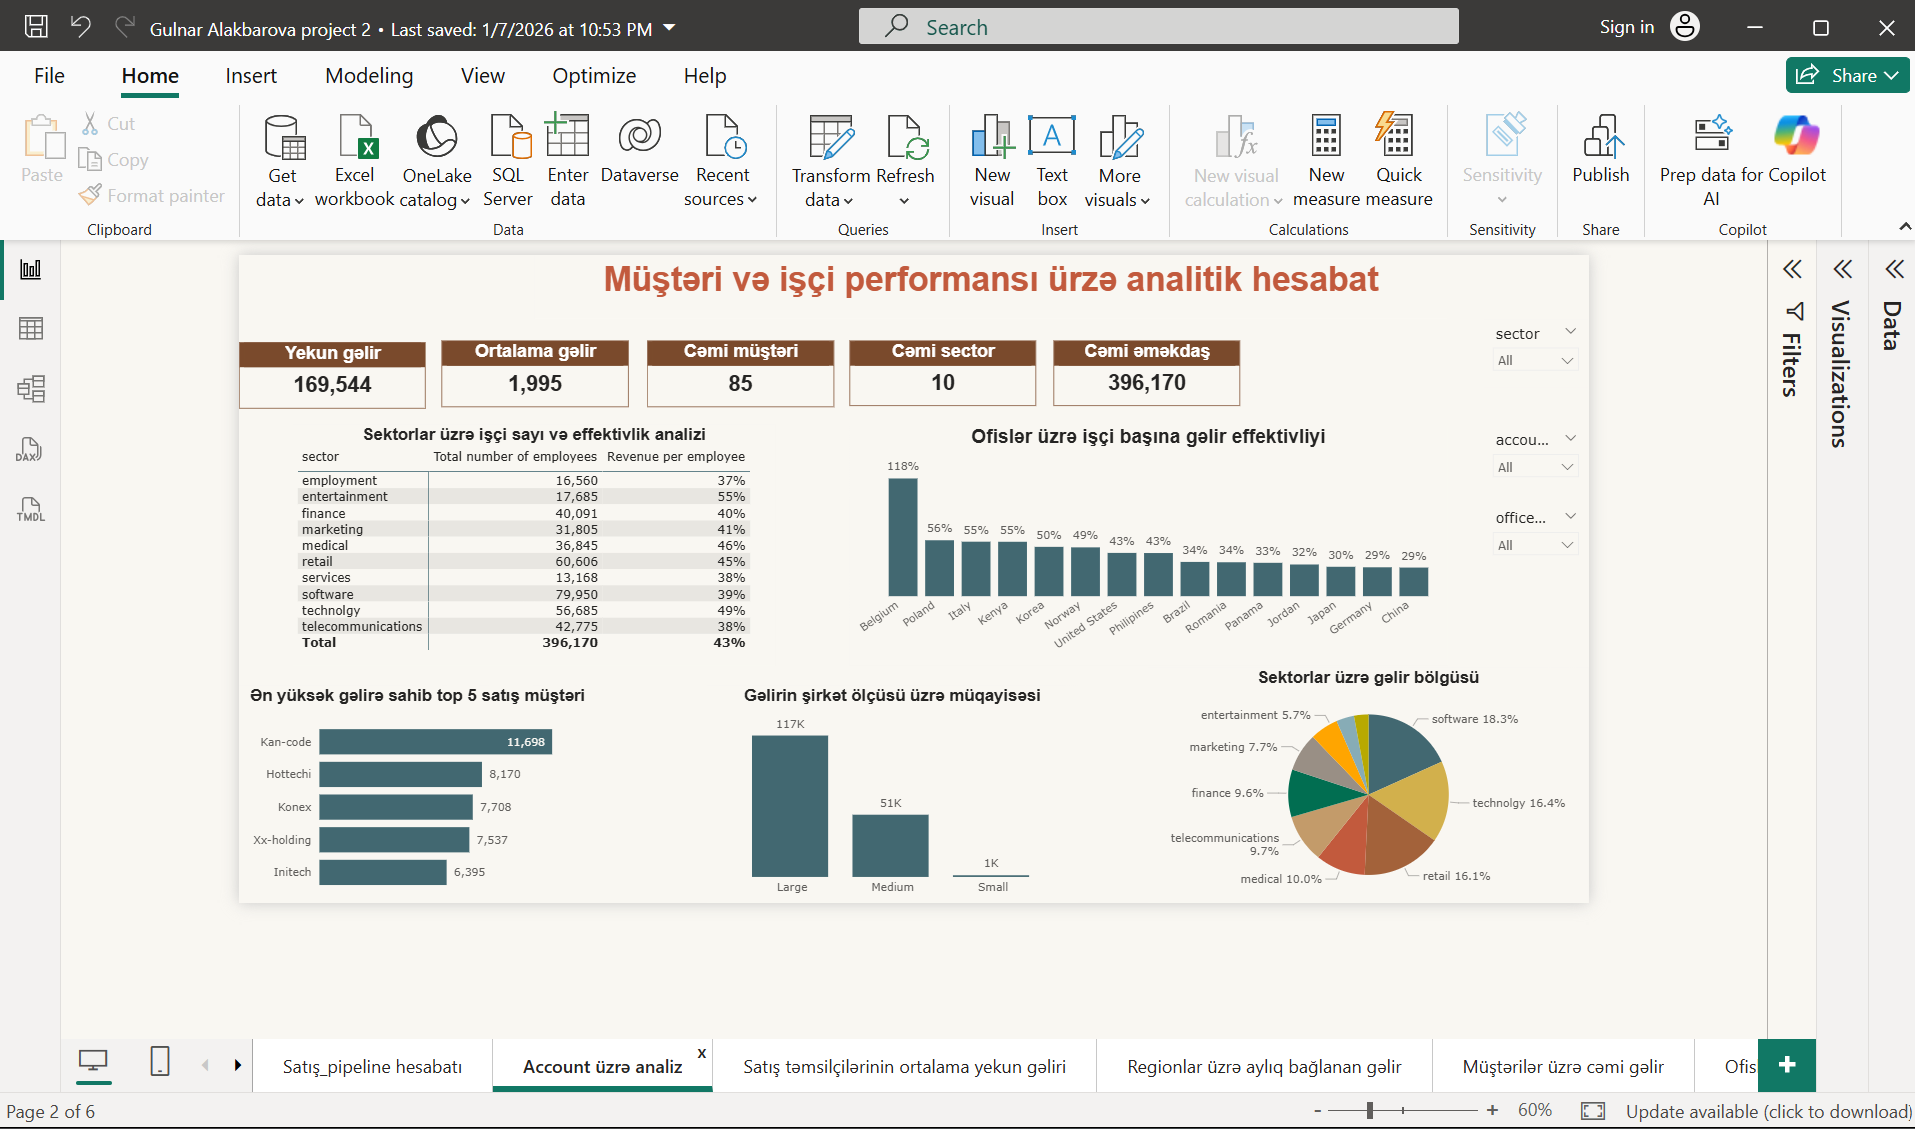

The page's visual inventory and layout, read from the dashboard file:
{"tool":"powerbi","page":{"name":"Account üzrə analiz","canvas":[1500,720],"ordinal":1},"visuals":[{"type":"card","title":"Yekun gəlir","fields":{"Values":["ACCOUNT_Measure Table.Total revenue"]},"box":[0,95.9,207.4,74.2],"z":0},{"type":"card","title":"Cəmi müştəri","fields":{"Values":["ACCOUNT_Measure Table.Total accounts"]},"box":[453.5,95.1,207.9,73.7],"z":1000},{"type":"card","title":"Cəmi sector","fields":{"Values":["ACCOUNT_Measure Table.Total sector"]},"box":[677.8,95.8,207.6,72.8],"z":2000},{"type":"card","title":"Cəmi əməkdaş","fields":{"Values":["ACCOUNT_Measure Table.Total number of employees"]},"box":[905,95.8,207.6,72.8],"z":3000},{"type":"card","title":"Ortalama gəlir","fields":{"Values":["ACCOUNT_Measure Table.Average revenue"]},"box":[224.9,95.1,207.9,73.7],"z":4000},{"type":"clusteredBarChart","title":"Ən yüksək gəlirə sahib top 5 satış müştəri","fields":{"Category":["accounts.account"],"Y":["ACCOUNT_Measure Table.Total revenue"]},"box":[0,478.1,396.9,241.9],"z":5000},{"type":"pieChart","title":"Sektorlar üzrə gəlir bölgüsü","fields":{"Y":["ACCOUNT_Measure Table.Total revenue by sector"],"Category":["accounts.sector"]},"box":[1009.9,458.4,489.4,261.3],"z":6000},{"type":"clusteredColumnChart","title":"Gəlirin şirkət ölçüsü üzrə müqayisəsi","fields":{"Category":["accounts.Company size by number of employees"],"Y":["ACCOUNT_Measure Table.Total revenue"]},"box":[520.4,478.4,411.9,241.4],"z":7000},{"type":"pivotTable","title":"Sektorlar üzrə işçi sayı və effektivlik analizi","fields":{"Values":["ACCOUNT_Measure Table.Total number of employees","ACCOUNT_Measure Table.Revenue per employee"],"Rows":["accounts.sector"]},"box":[59.8,188.2,535.9,268],"z":8000},{"type":"clusteredColumnChart","title":"Ofislər üzrə işçi başına gəlir effektivliyi","fields":{"Category":["accounts.office_location"],"Y":["ACCOUNT_Measure Table.Revenue per employee"]},"box":[677.7,190.5,664.4,265.8],"z":9000},{"type":"slicer","fields":{"Values":["accounts.sector"]},"box":[1384.1,70.9,115.2,75.3],"z":10000},{"type":"slicer","fields":{"Values":["accounts.account"]},"box":[1384.1,190.5,115.2,86.4],"z":11000},{"type":"textbox","box":[327.8,0,1014.3,70.9],"z":12000},{"type":"slicer","fields":{"Values":["accounts.office_location"]},"box":[1384.1,276.8,115.2,101.9],"z":13000}]}

Visuals, with their boxes on the page's 1500x720 design canvas (x1, y1, x2, y2). These are canvas units, not pixel positions in the 1915x1129 screenshot, which may show the page scaled, cropped or inside an application window:
"Yekun gəlir" card: bbox(0, 96, 207, 170)
"Cəmi müştəri" card: bbox(454, 95, 661, 169)
"Cəmi sector" card: bbox(678, 96, 885, 169)
"Cəmi əməkdaş" card: bbox(905, 96, 1113, 169)
"Ortalama gəlir" card: bbox(225, 95, 433, 169)
"Ən yüksək gəlirə sahib top 5 satış müştəri" clusteredBarChart: bbox(0, 478, 397, 720)
"Sektorlar üzrə gəlir bölgüsü" pieChart: bbox(1010, 458, 1499, 720)
"Gəlirin şirkət ölçüsü üzrə müqayisəsi" clusteredColumnChart: bbox(520, 478, 932, 720)
"Sektorlar üzrə işçi sayı və effektivlik analizi" pivotTable: bbox(60, 188, 596, 456)
"Ofislər üzrə işçi başına gəlir effektivliyi" clusteredColumnChart: bbox(678, 190, 1342, 456)
slicer - accounts.sector: bbox(1384, 71, 1499, 146)
slicer - accounts.account: bbox(1384, 190, 1499, 277)
textbox: bbox(328, 0, 1342, 71)
slicer - accounts.office_location: bbox(1384, 277, 1499, 379)
